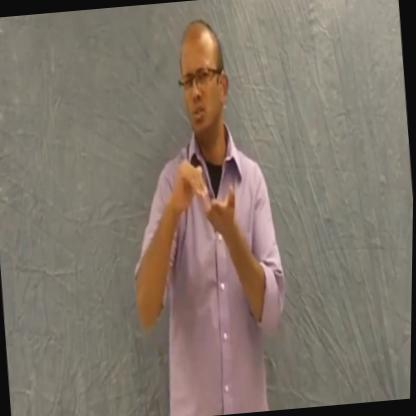ExcuseMe: (164, 136, 249, 258)
